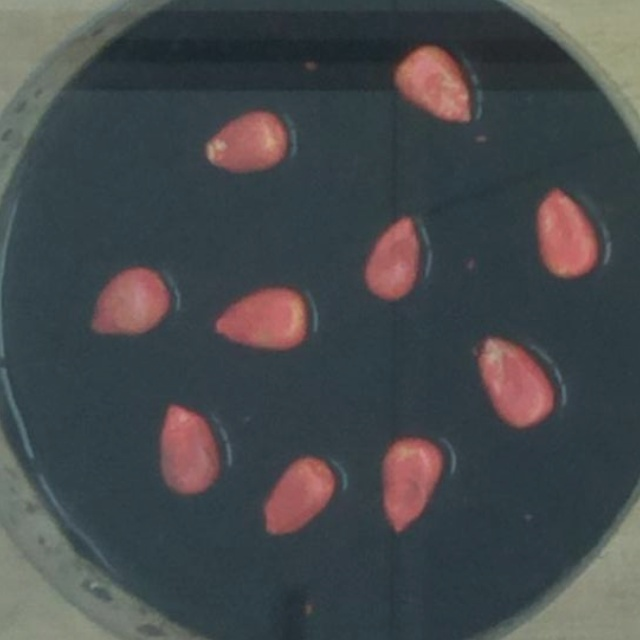Zea mays: (469, 327, 563, 438), (386, 37, 482, 133), (204, 279, 317, 359), (374, 428, 452, 542), (254, 448, 344, 544), (527, 181, 607, 285), (83, 257, 179, 343), (151, 396, 227, 503), (198, 103, 296, 181), (356, 208, 427, 308)
